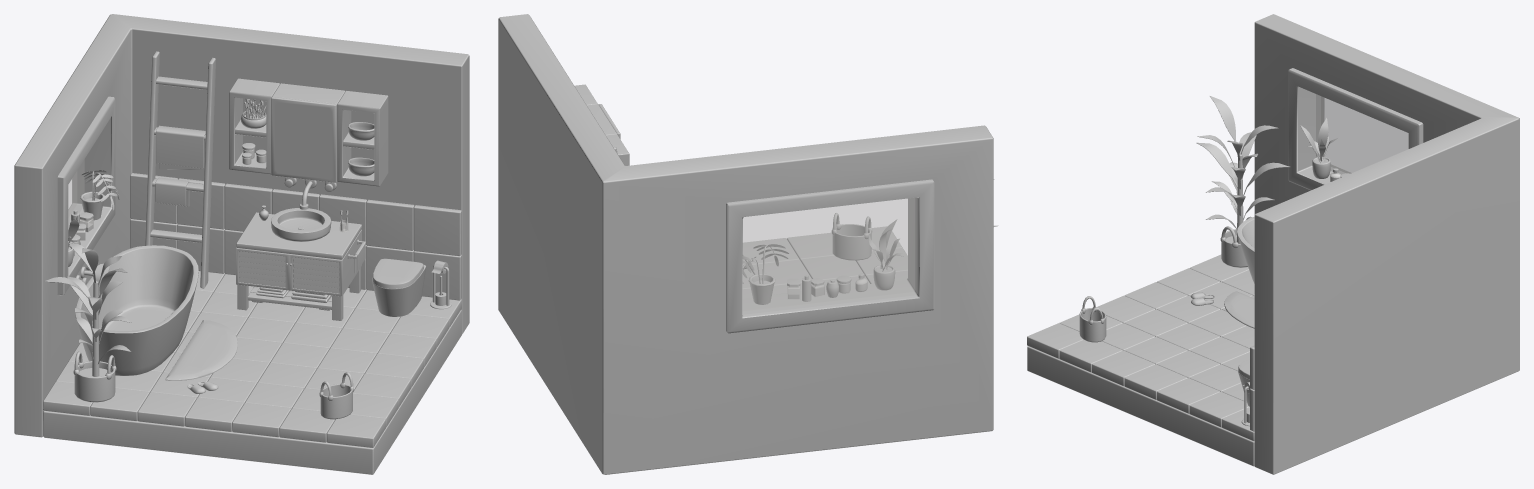
The model's file is Bathoom_4.fbx.
The picture shows the model from 3 angles, left to right: view 1: azimuth 30°, elevation 25°; view 2: azimuth 150°, elevation 25°; view 3: azimuth 270°, elevation 25°; orthographic projection. The views are drawn at different scales.
Parts seen in each view (by area): view 1: Room_4_Wall_1, Room_4_Tile_1, Room_4_Tile_2, Room_4_Floor_1, Room_4_Bath_1, Room_4_Cabinet_1, Room_4_Ladder_with_towels, Room_4_Cabinet_2, Room_4_Window_1, Room_4_Plant_1, Room_4_Shelf_2, Room_4_Shelf_1 (+6 smaller); view 2: Room_4_Wall_1, Room_4_Window_1, Room_4_Tile_1, Room_4_Basket_1, Room_4_Plant_3, Room_4_Plant_2; view 3: Room_4_Wall_1, Room_4_Tile_1, Room_4_Window_1, Room_4_Floor_1, Room_4_Plant_1, Room_4_Basket_1, Room_4_Plant_2, Room_4_Carpet_1, Room_4_Bath_1.
Boxes of the visible parts, x1=… form: Room_4_Wall_1: x1=14, y1=14, x2=469, y2=437; Room_4_Tile_1: x1=43, y1=271, x2=461, y2=447; Room_4_Tile_2: x1=130, y1=173, x2=461, y2=300; Room_4_Floor_1: x1=43, y1=310, x2=461, y2=474; Room_4_Bath_1: x1=75, y1=245, x2=198, y2=375; Room_4_Cabinet_1: x1=236, y1=212, x2=361, y2=320; Room_4_Ladder_with_towels: x1=145, y1=51, x2=215, y2=288; Room_4_Cabinet_2: x1=271, y1=83, x2=345, y2=182; Room_4_Window_1: x1=57, y1=96, x2=115, y2=295; Room_4_Plant_1: x1=44, y1=243, x2=131, y2=402; Room_4_Shelf_2: x1=337, y1=91, x2=388, y2=186; Room_4_Shelf_1: x1=229, y1=78, x2=279, y2=174; Room_4_Wall_1: x1=498, y1=14, x2=993, y2=474; Room_4_Window_1: x1=726, y1=179, x2=934, y2=333; Room_4_Tile_1: x1=742, y1=226, x2=907, y2=298; Room_4_Basket_1: x1=831, y1=213, x2=872, y2=260; Room_4_Plant_3: x1=742, y1=244, x2=788, y2=304; Room_4_Plant_2: x1=868, y1=219, x2=903, y2=290; Room_4_Wall_1: x1=1254, y1=14, x2=1519, y2=474; Room_4_Tile_1: x1=1027, y1=254, x2=1254, y2=441; Room_4_Window_1: x1=1288, y1=68, x2=1423, y2=190; Room_4_Floor_1: x1=1027, y1=346, x2=1254, y2=466; Room_4_Plant_1: x1=1196, y1=96, x2=1289, y2=267; Room_4_Basket_1: x1=1079, y1=296, x2=1106, y2=342; Room_4_Plant_2: x1=1300, y1=118, x2=1338, y2=178; Room_4_Carpet_1: x1=1224, y1=291, x2=1254, y2=328; Room_4_Bath_1: x1=1236, y1=216, x2=1254, y2=283.
Bounding box in the file's own units: 704 × 400 × 705.
